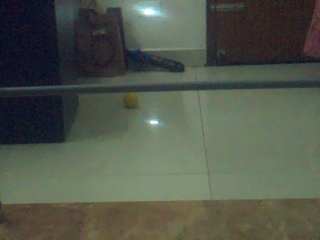ball: (123, 92, 138, 108)
